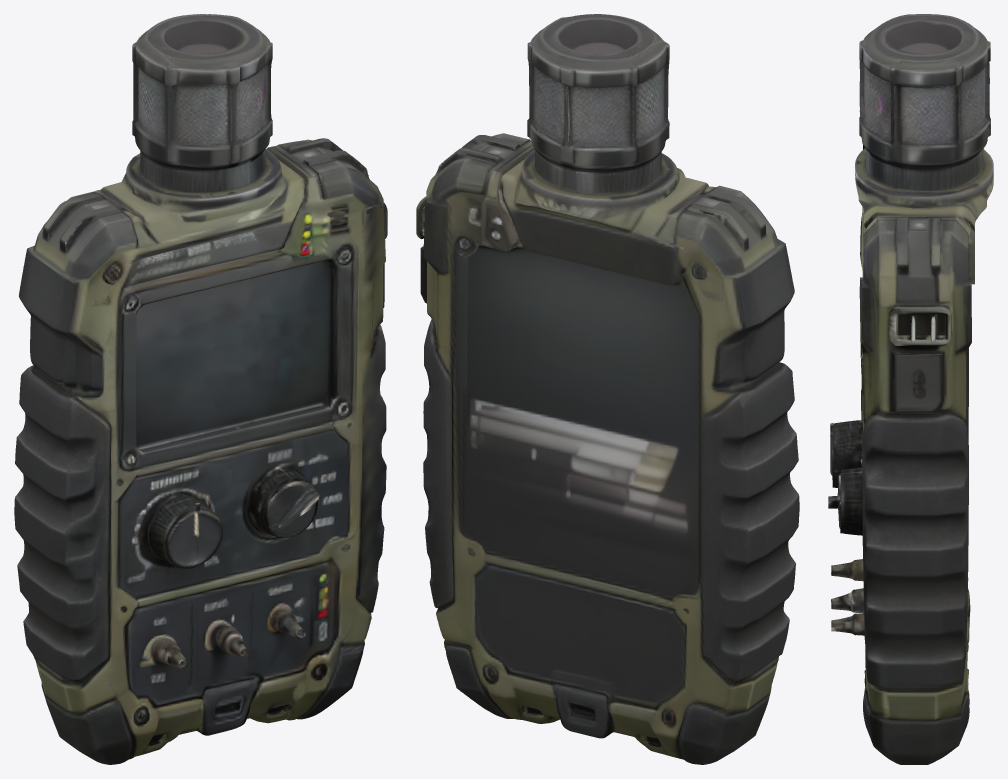
File: AudioDetector.fbx
3 views of the same model, side by side, from view 1: azimuth 30°, elevation 25°; view 2: azimuth 150°, elevation 25°; view 3: azimuth 270°, elevation 25° (orthographic). The views are drawn at different scales.
Parts seen in each view (by area): view 1: model; view 2: model; view 3: model.
Boxes of the visible parts, x1,y1,x2,y2 form: model: [14, 14, 387, 764]; model: [416, 14, 799, 764]; model: [828, 14, 993, 764].
Bounding box in the file's own units: 98.66 × 190 × 41.85.
